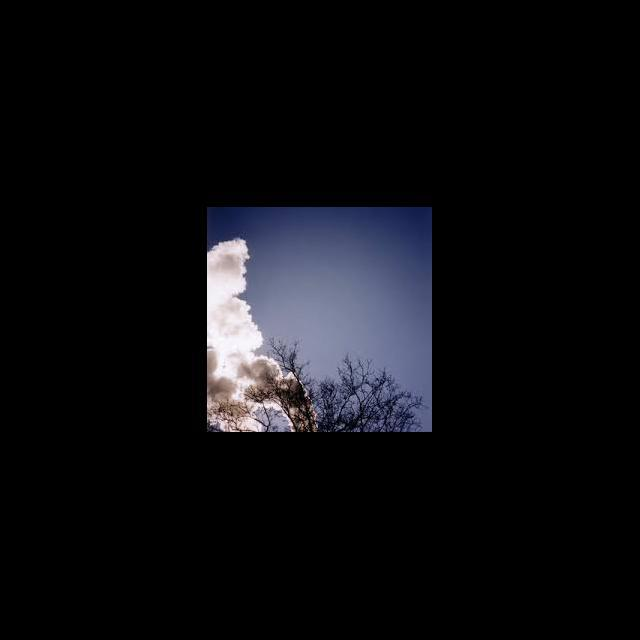Smoke: (208, 240, 321, 432)
